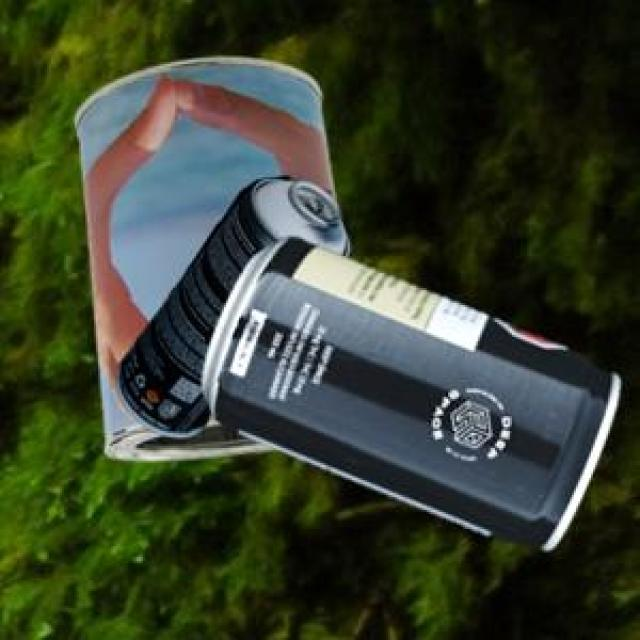logam: (199, 236, 618, 547), (71, 54, 332, 458), (112, 174, 347, 434)
